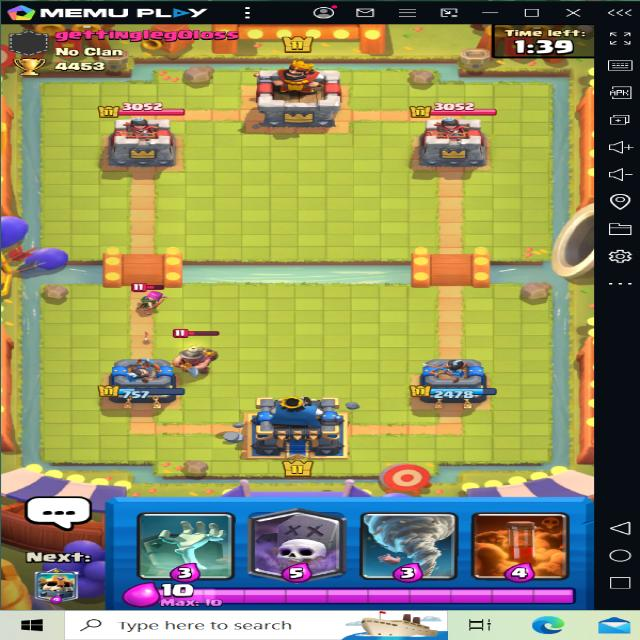Archer: (116, 281, 172, 319)
Miner: (169, 327, 227, 382)
